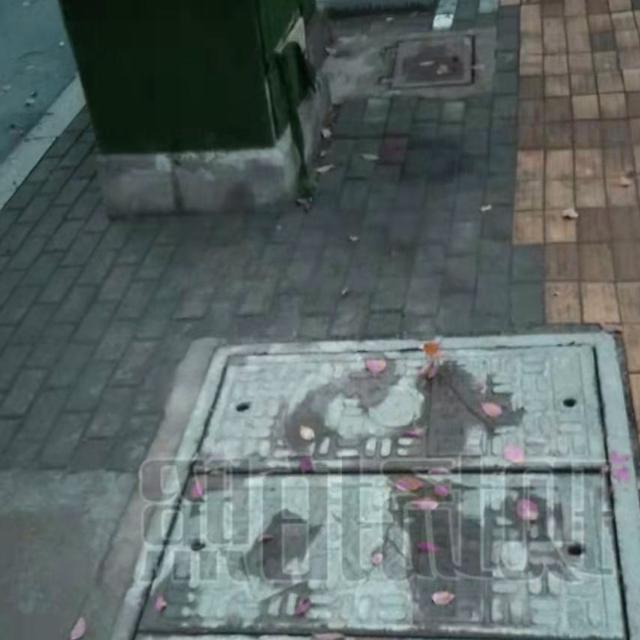good: (36, 327, 640, 640)
